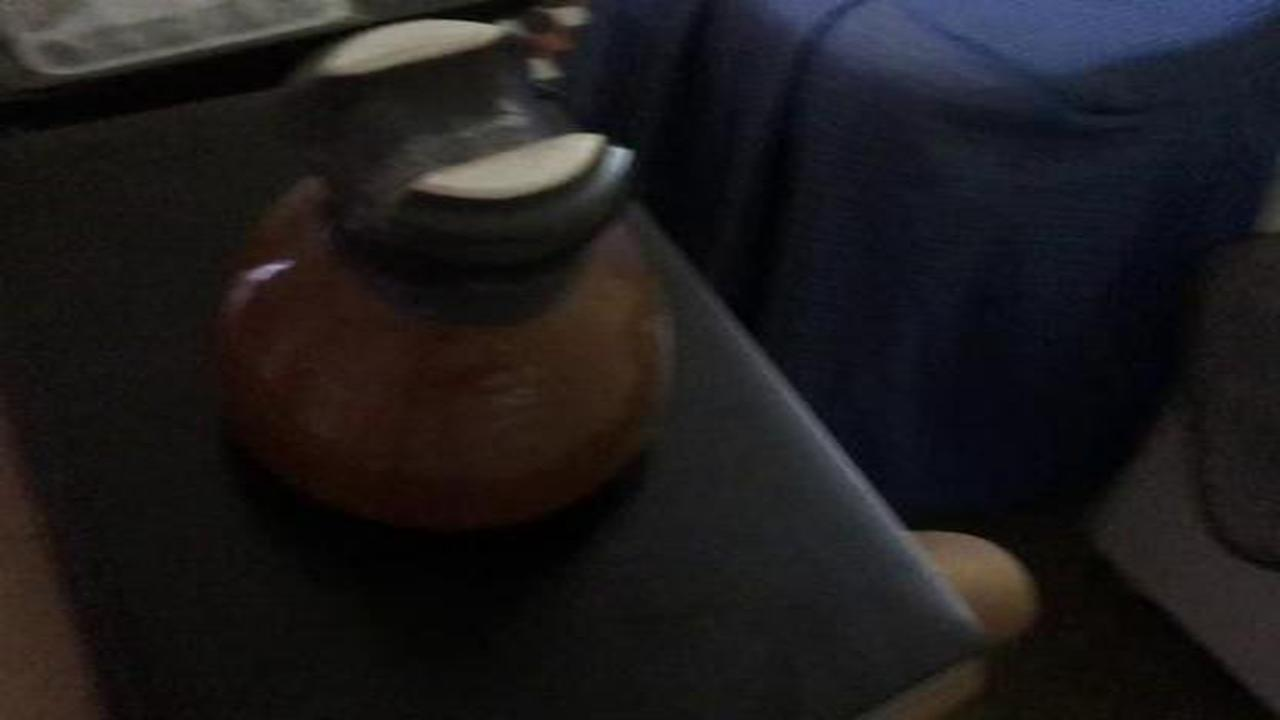insulator_pin: (209, 16, 684, 553)
